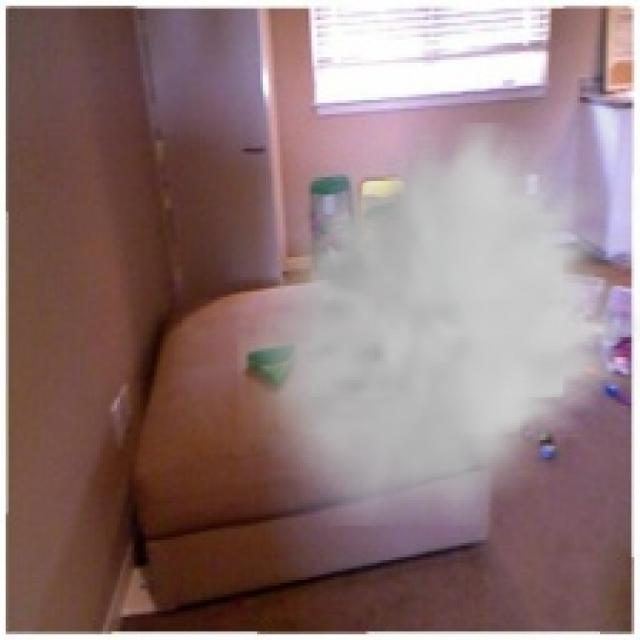smoke: (237, 123, 637, 528)
